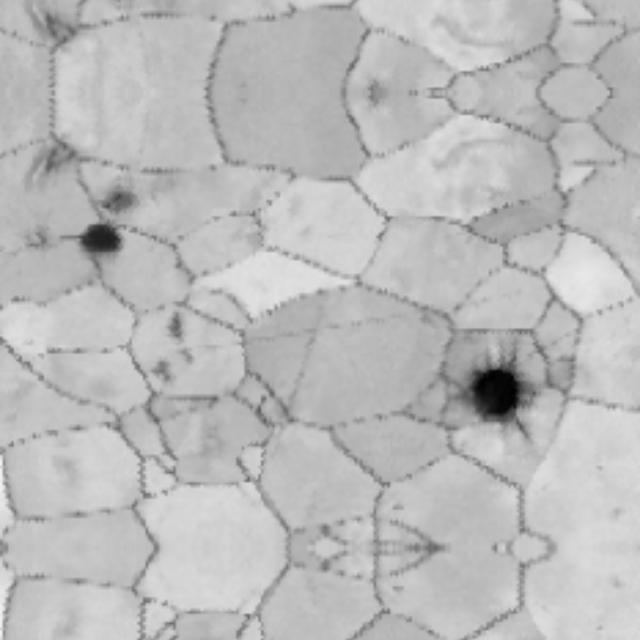good_void: (459, 360, 534, 430), (19, 126, 86, 194), (19, 0, 86, 58), (76, 220, 133, 260), (147, 341, 195, 383), (96, 181, 143, 216), (22, 218, 54, 253), (589, 458, 616, 490), (589, 606, 616, 638), (380, 495, 413, 520), (380, 576, 413, 601), (167, 311, 187, 339), (255, 392, 270, 415)
